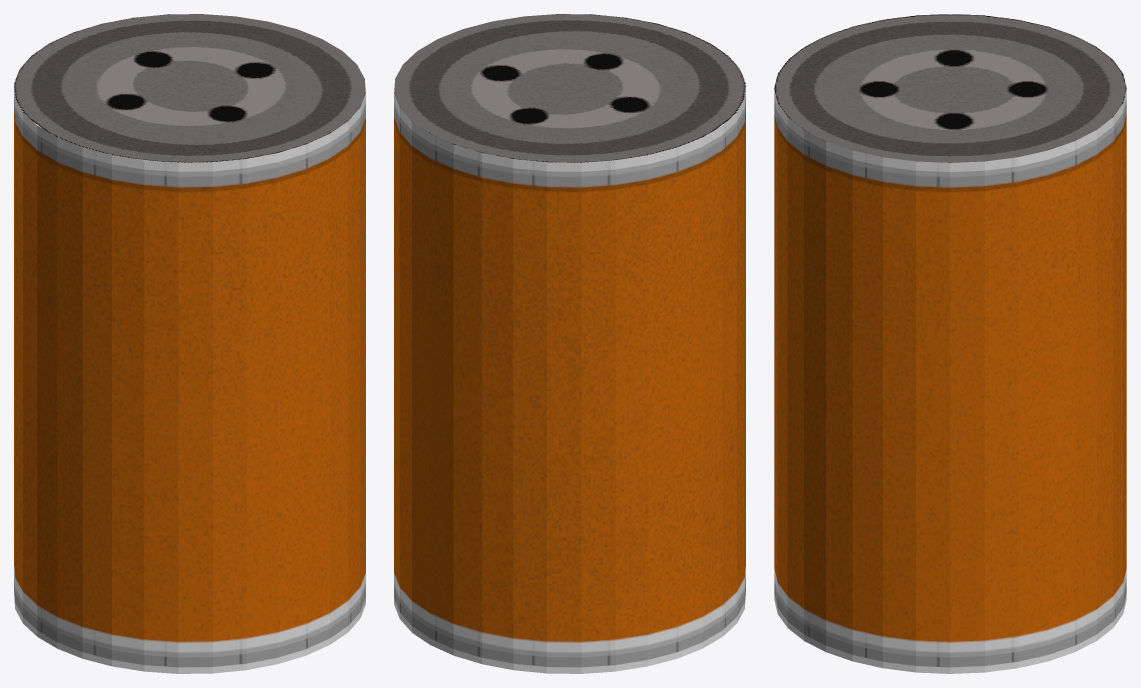
Rendered from fueltank_1.glb.
The picture shows the model from 3 angles, left to right: view 1: azimuth 30°, elevation 25°; view 2: azimuth 150°, elevation 25°; view 3: azimuth 270°, elevation 25°; orthographic projection.
Parts seen in each view (by area): view 1: Cylinder; view 2: Cylinder; view 3: Cylinder.
Boxes of the visible parts, x1,y1,x2,y2 form: Cylinder: (14,14,365,673); Cylinder: (394,14,745,673); Cylinder: (774,14,1126,673).
Size of the model in its own units: 1.25 by 2 by 1.25.
1 material, 1 textured.
